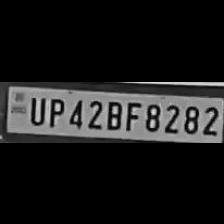2: (84, 96, 104, 130), (160, 100, 180, 132), (200, 101, 218, 135)
4: (64, 95, 84, 127)
8: (180, 100, 198, 134), (142, 100, 160, 132)
B: (104, 98, 122, 130)
F: (124, 97, 140, 130)
P: (44, 94, 64, 126)
U: (25, 93, 45, 125)
